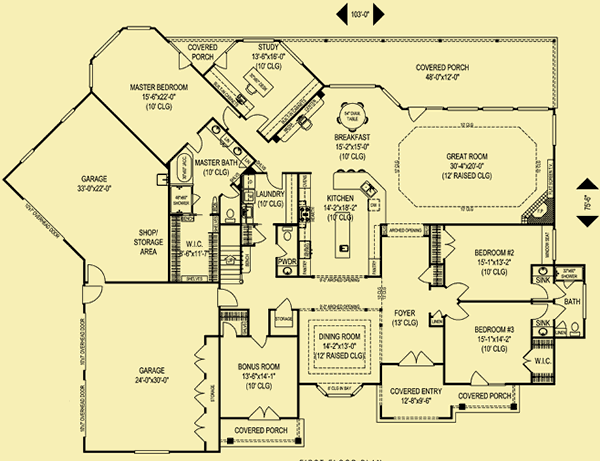bathroom having small sinks, large sink, shower space and also has a walk in clo: (527, 263, 587, 338)
dining room with a round dining table: (307, 86, 402, 163)
kitchen has a twin sink, dining counter, cooking range: (299, 166, 388, 278)
laundry room has a washer and dryer: (242, 172, 299, 228)
master bathroom has a tub space, dual sink, large sink and shower space: (163, 120, 247, 226)
small bathroom has a large sink and small sink: (273, 222, 301, 279)
this is a large garage: (80, 282, 217, 454)
this is a walk in closet: (169, 215, 221, 285)
